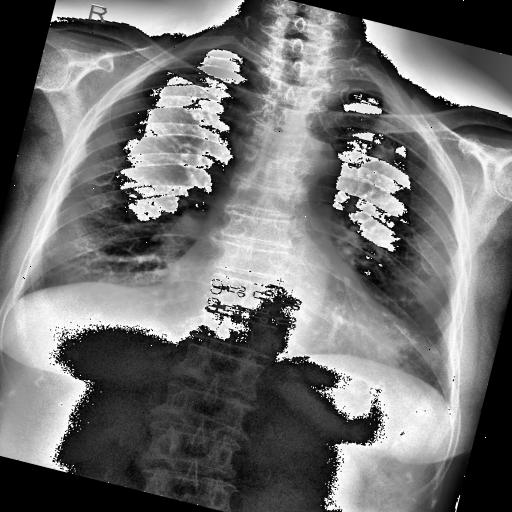0- Aortic enlargement: (276, 132, 348, 196)
3- Cardiomegaly: (152, 248, 416, 370), (158, 254, 418, 370), (156, 260, 410, 376)
